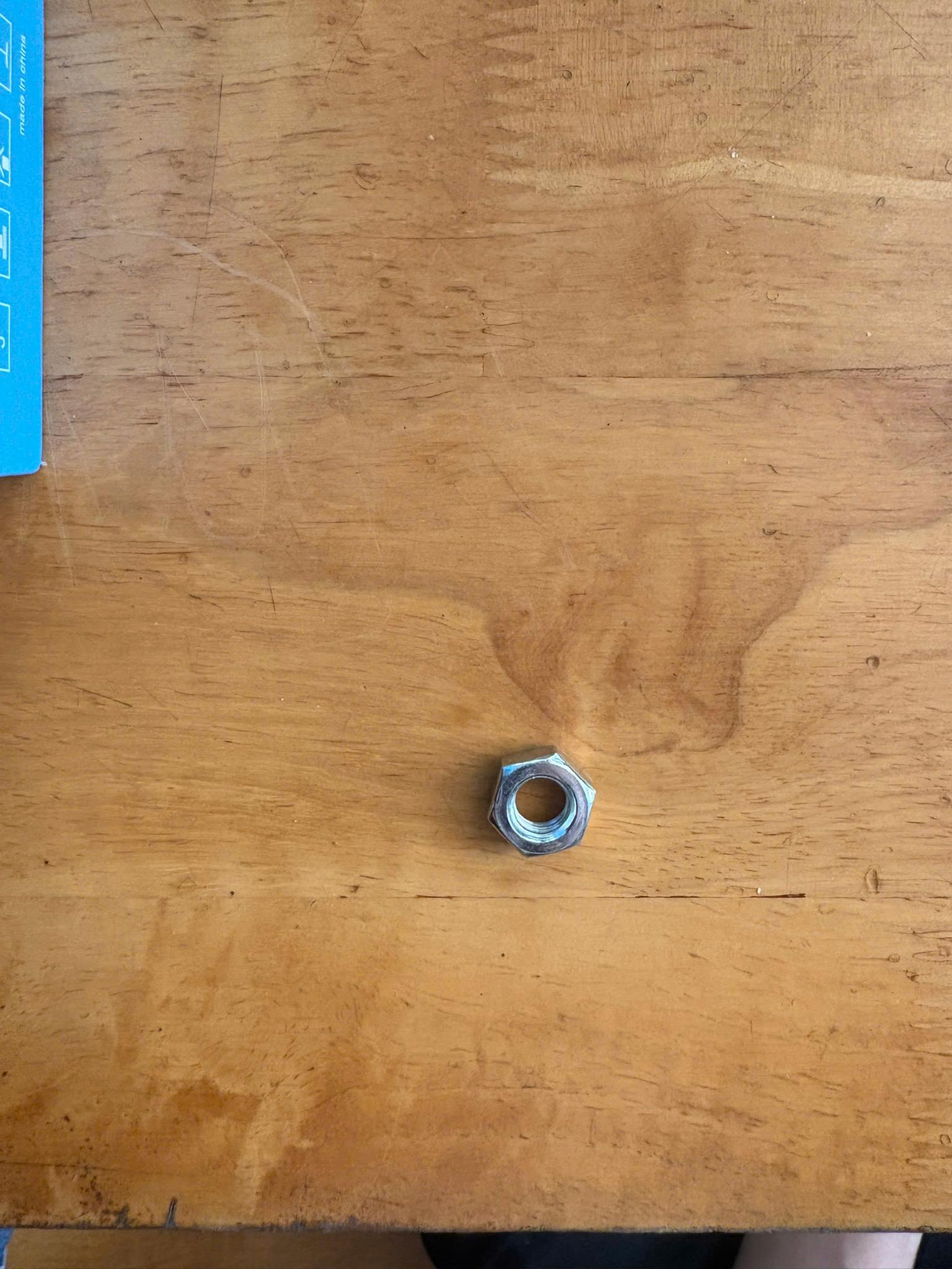nut: (481, 734, 603, 875)
